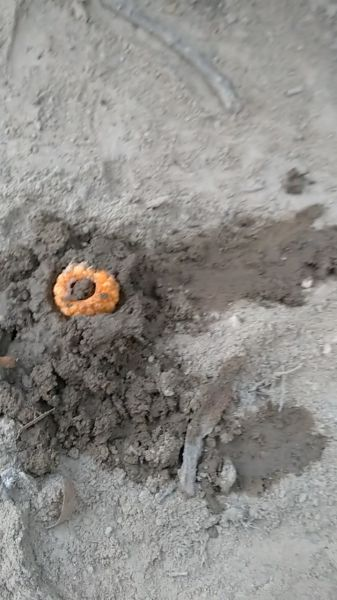eggs: (50, 259, 127, 324)
